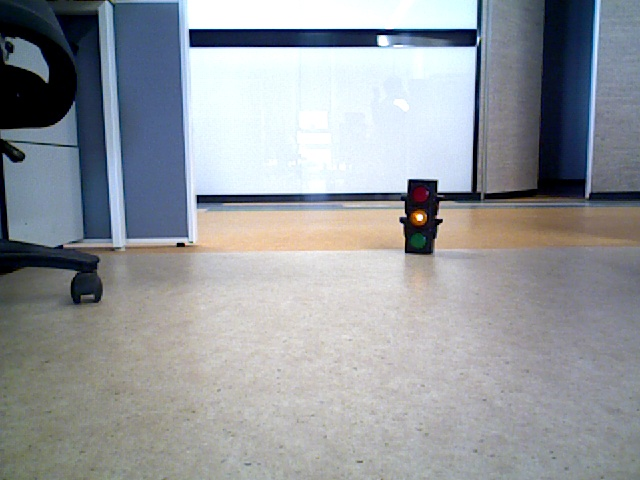yellow: (409, 181, 434, 250)
